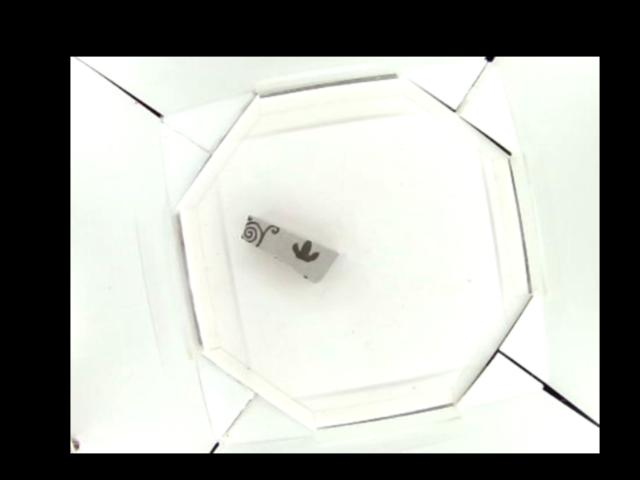China: (241, 213, 339, 282)
